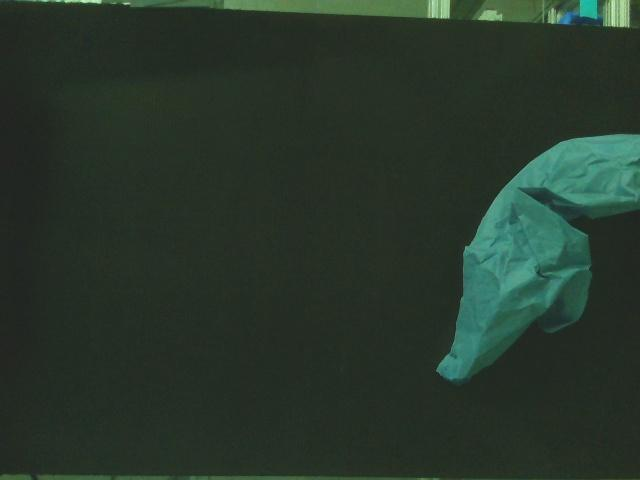paper: (434, 132, 640, 390)
